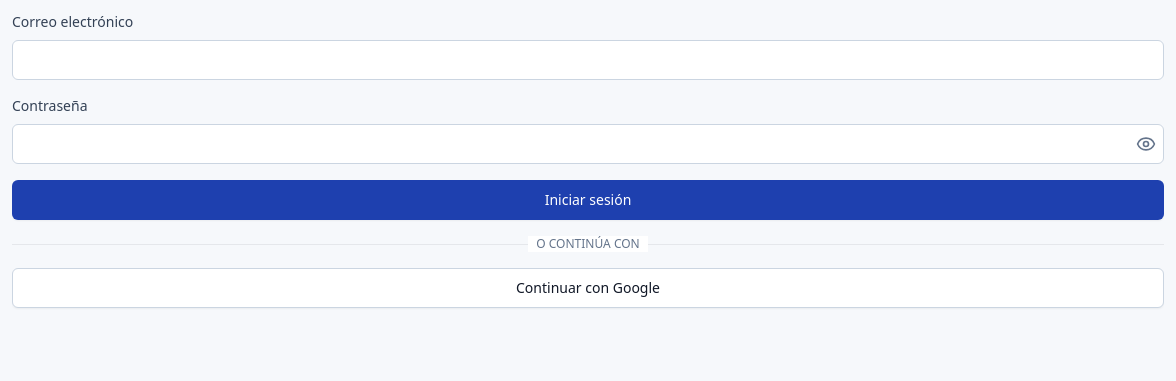
Scenario: LoginForm › shows validation errors before submit
Click the button "Iniciar sesión": (588, 200) [12,180,1164,220]
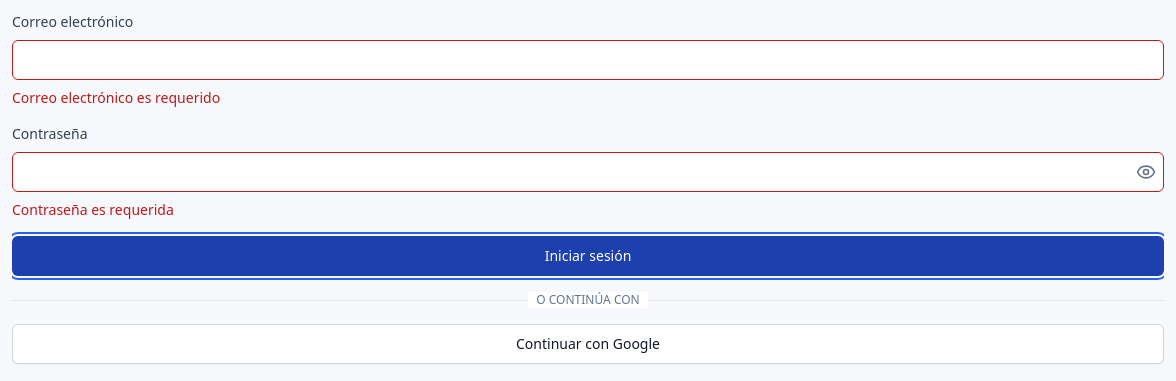
Now the text "Correo electrónico es requerido" is shown, box [12,88,220,107]
Now the text "Contraseña es requerida" is shown, box [12,200,174,219]
